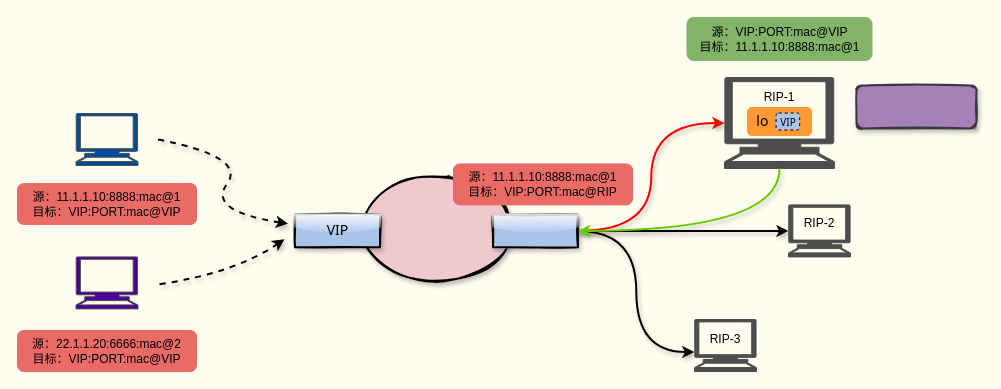
The diagram is 1001 pixels wide and 389 high, and some of its shapes have lost their labels. Here are the shapes that lost their labels. From the top down, the centre of each, then its label:
At (917,108): "TCP 连接 VIP - RIP".
At (437,229): "DR".
At (536,232): "DIP".
